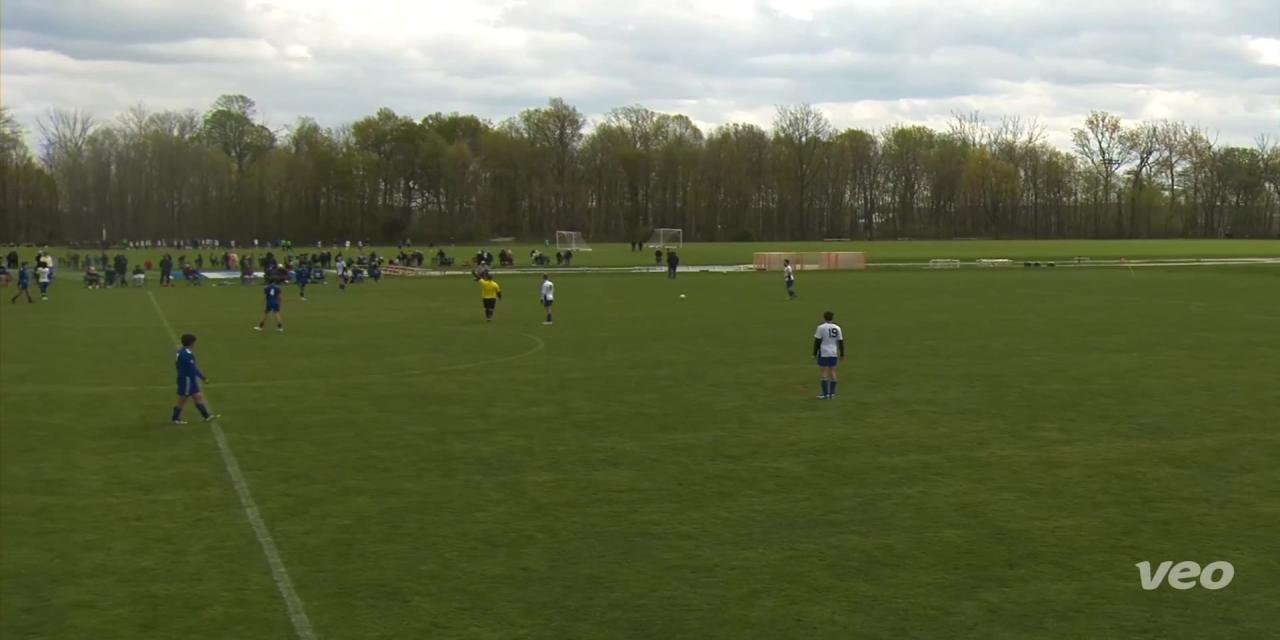sports ball: (678, 289, 694, 305)
